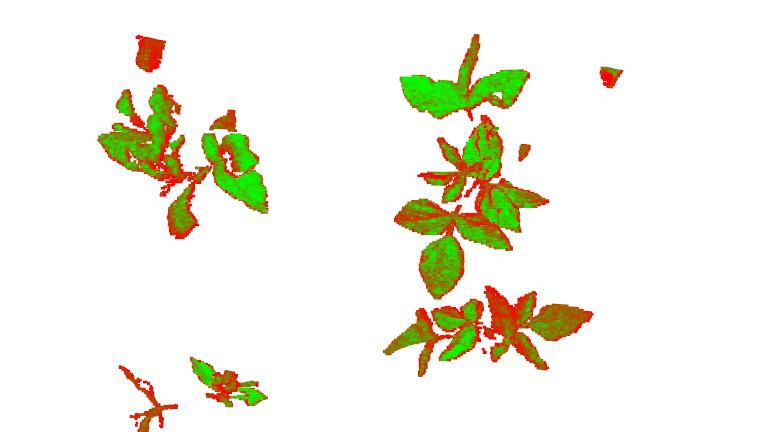mungbean: (393, 33, 539, 299), (99, 79, 273, 234), (385, 291, 604, 377), (115, 355, 272, 432)
